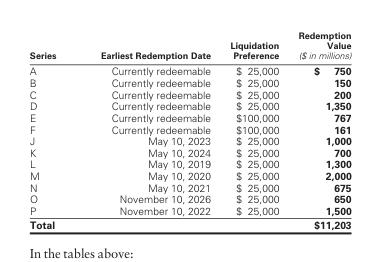table: (28, 29, 350, 230)
table column: (77, 29, 219, 230), (219, 29, 288, 230), (288, 29, 350, 230), (28, 29, 77, 230)
table column header: (28, 29, 350, 62)
table row: (28, 29, 350, 62), (28, 62, 350, 76), (28, 204, 350, 217), (28, 217, 350, 230), (28, 76, 350, 88), (28, 99, 350, 111), (28, 111, 350, 123), (28, 134, 350, 146), (28, 146, 350, 158), (28, 169, 350, 181), (28, 192, 350, 204), (28, 88, 350, 99), (28, 123, 350, 134), (28, 158, 350, 169), (28, 181, 350, 192)
